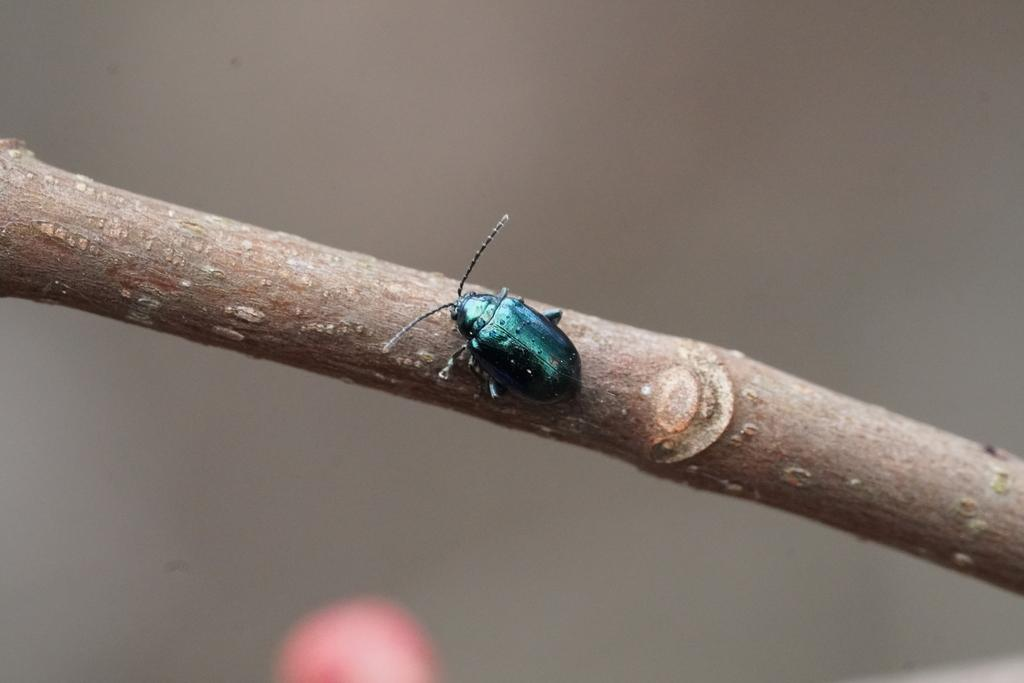flea_beetle: (362, 188, 617, 475)
